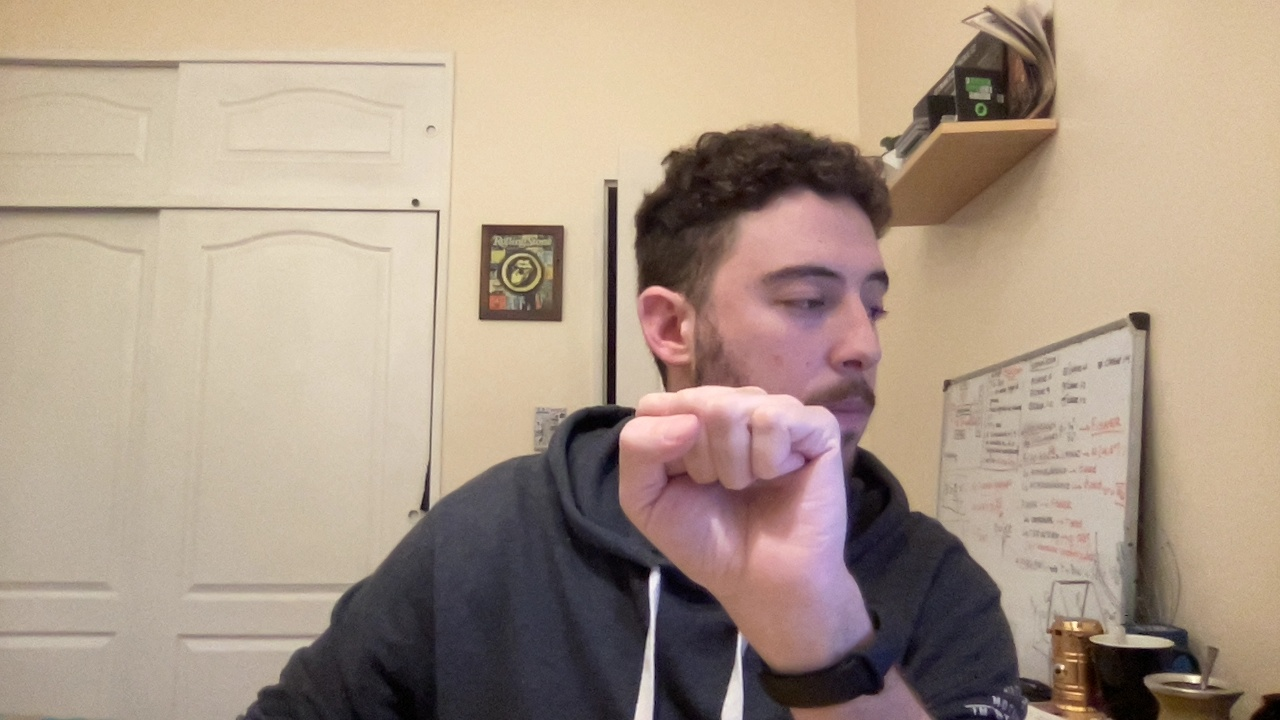cerrado: (598, 382, 871, 616)
